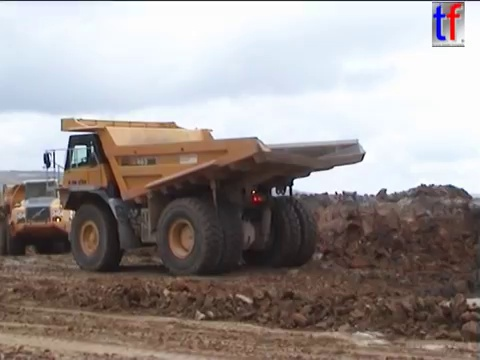truck: (40, 114, 368, 279), (1, 176, 81, 257)
